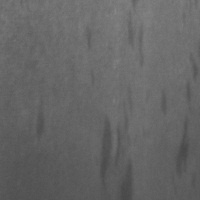inclusion: (162, 51, 198, 192), (110, 82, 144, 199), (92, 111, 116, 194), (124, 2, 147, 71), (27, 86, 52, 146), (155, 85, 173, 122), (79, 23, 97, 53)
